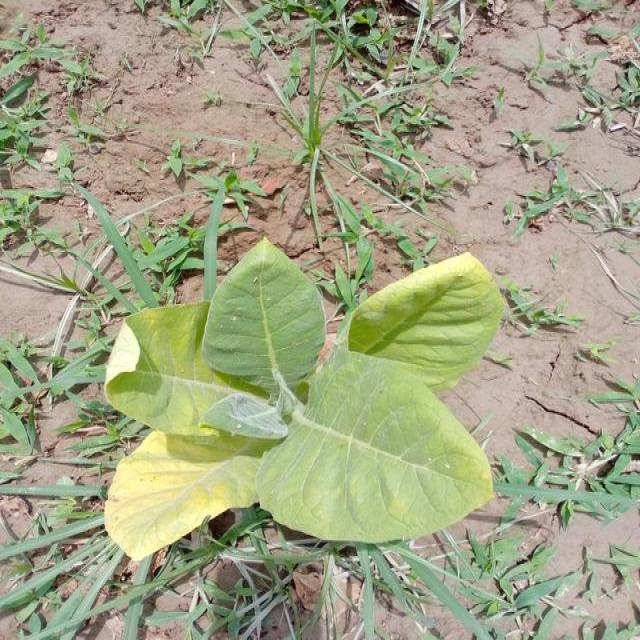crop: (105, 236, 500, 557)
